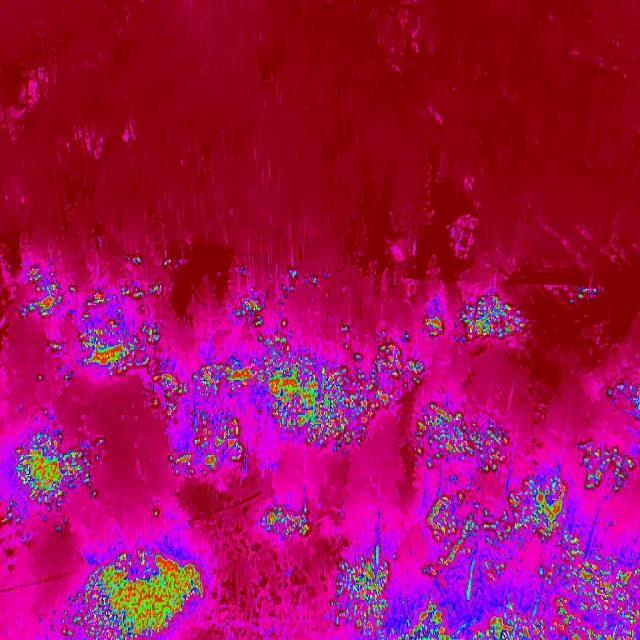fire: (175, 329, 428, 483), (419, 477, 574, 587), (46, 314, 185, 414), (65, 548, 206, 638), (547, 529, 640, 640), (0, 433, 102, 525), (414, 401, 512, 477), (336, 550, 394, 635), (452, 290, 538, 346), (470, 604, 586, 640), (576, 435, 638, 497), (76, 281, 168, 317), (21, 262, 69, 321), (385, 602, 456, 640), (260, 502, 316, 548), (232, 287, 288, 329), (567, 282, 602, 308), (278, 266, 304, 295), (422, 310, 444, 340), (159, 256, 186, 276), (233, 264, 254, 281), (129, 252, 145, 270)
